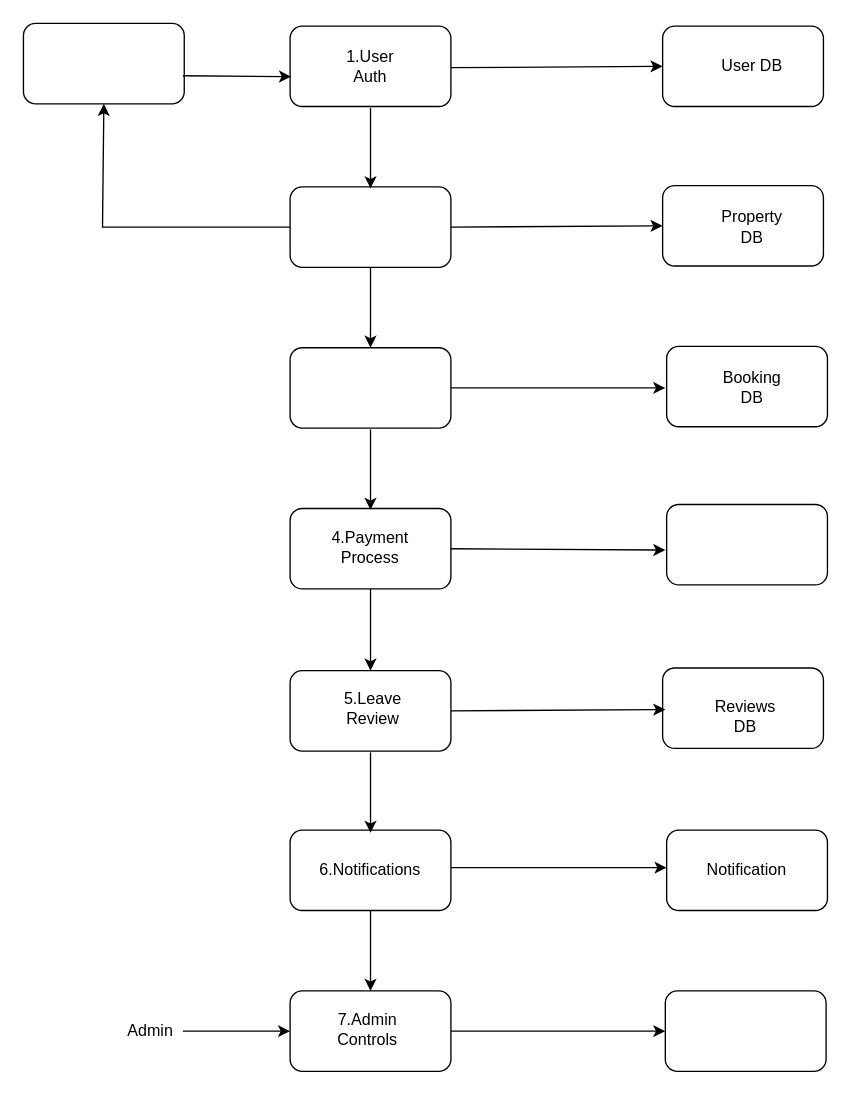
Some shapes in this 851 by 1095 pixel diagram are drawn without their labels. Each missing label, with the box of its shape:
2. Search & Filter: (289, 186, 451, 267)
3.Booking Process: (289, 346, 451, 428)
All DBs: (664, 990, 826, 1071)
Guest: (22, 22, 184, 104)
Payments DB: (665, 503, 827, 585)
